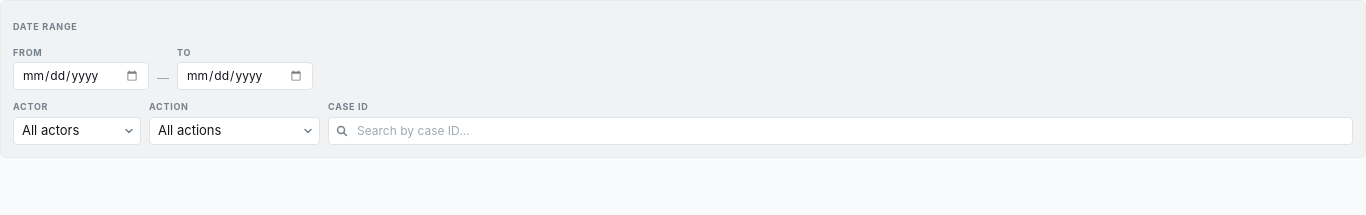
Scenario: active filter badge and clear all › clear all button resets dateFrom to empty
Type "2024-01-01" into the date field with test id "filter-date-from" at [81, 76], box [13,62,149,90]
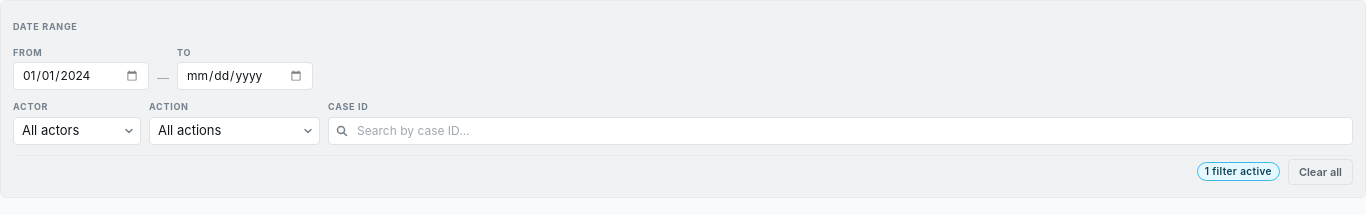
Click the button with test id "filter-clear-all" at [1320, 172], box [1288,158,1353,185]
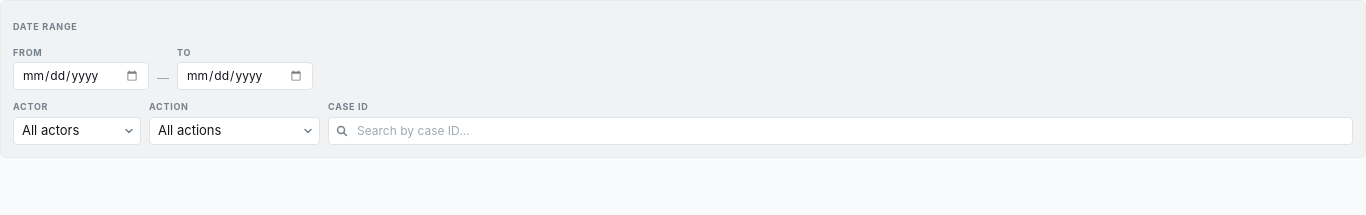
Check: the date field with test id "filter-date-from" is empty, box [13,62,149,90]
